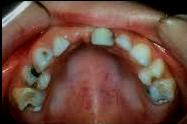Caries: (143, 82, 173, 106), (25, 66, 45, 82), (23, 102, 37, 114), (40, 51, 53, 63)
